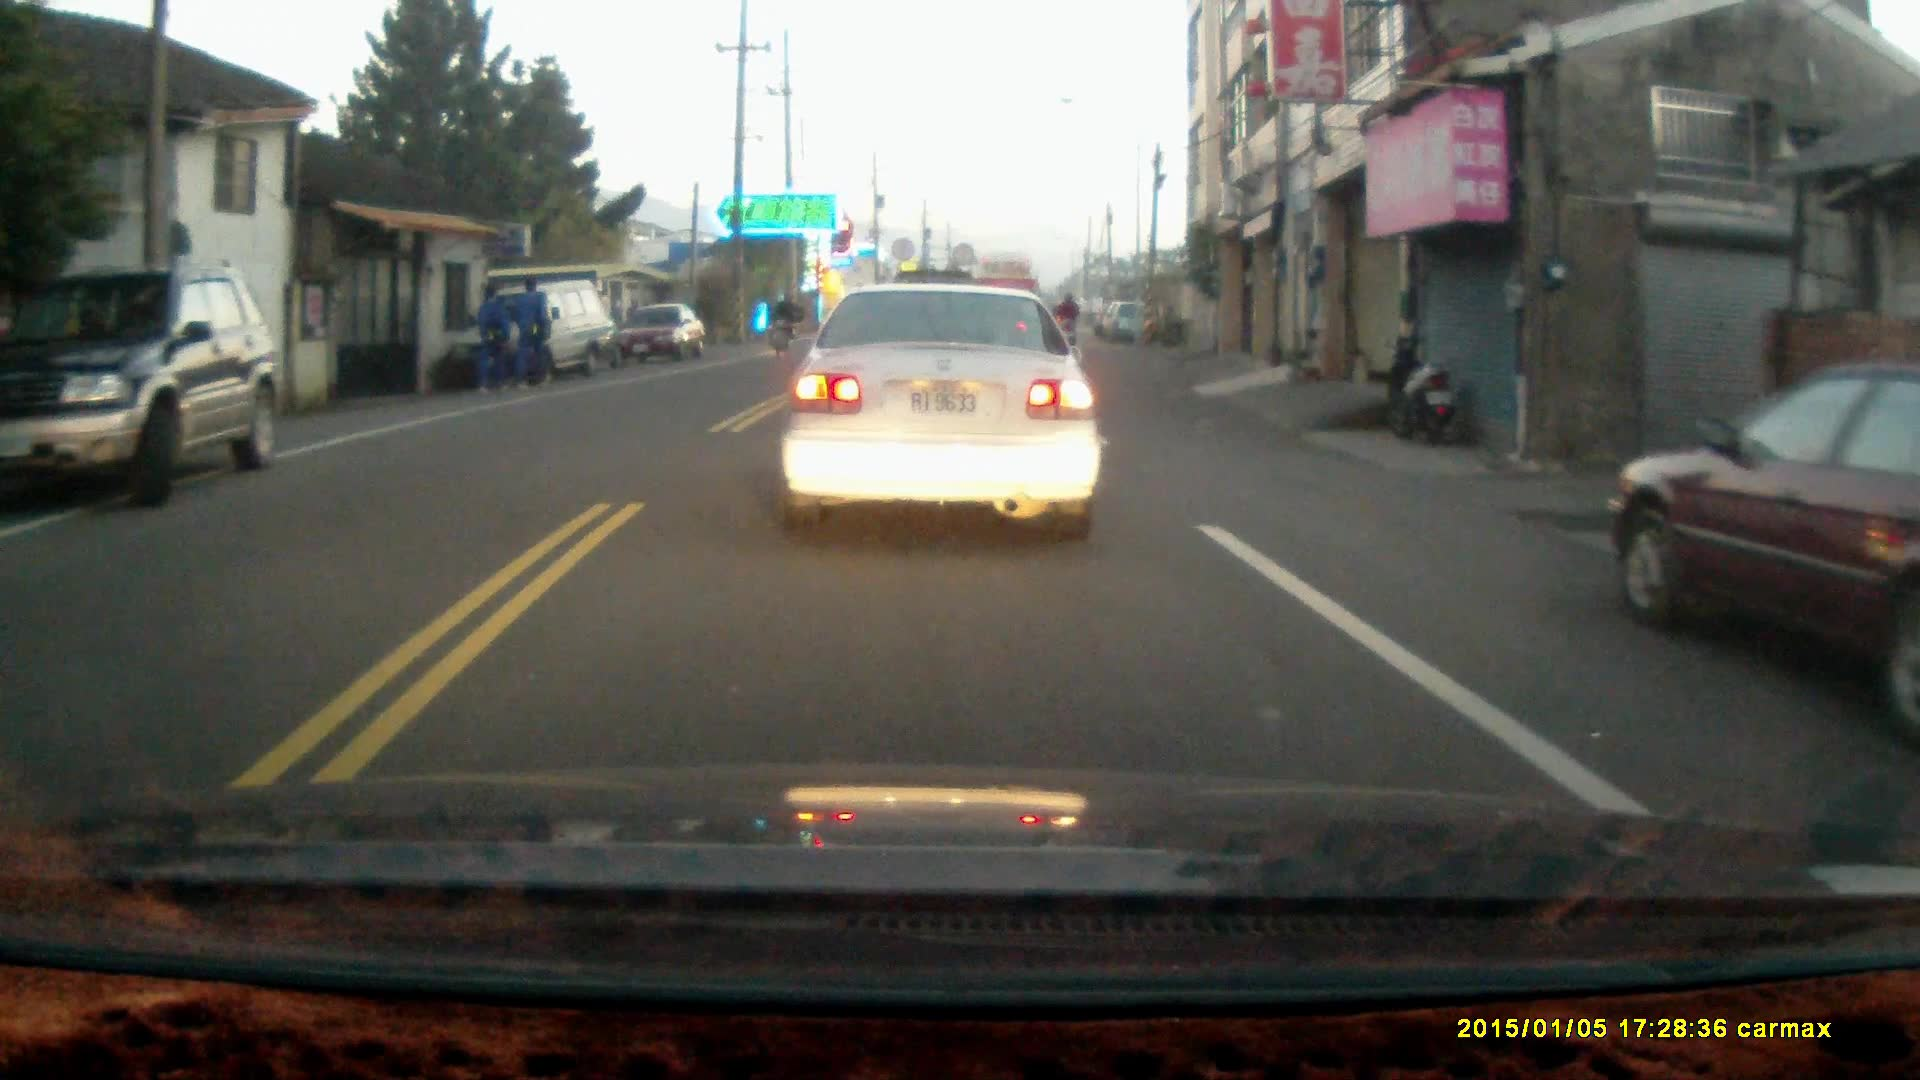pedestrian: (474, 278, 513, 398), (513, 274, 549, 393)
rider: (766, 289, 801, 351)
vehicle: (1616, 363, 1920, 750), (780, 277, 1108, 538), (3, 264, 286, 508), (481, 278, 622, 377), (611, 303, 710, 363)
